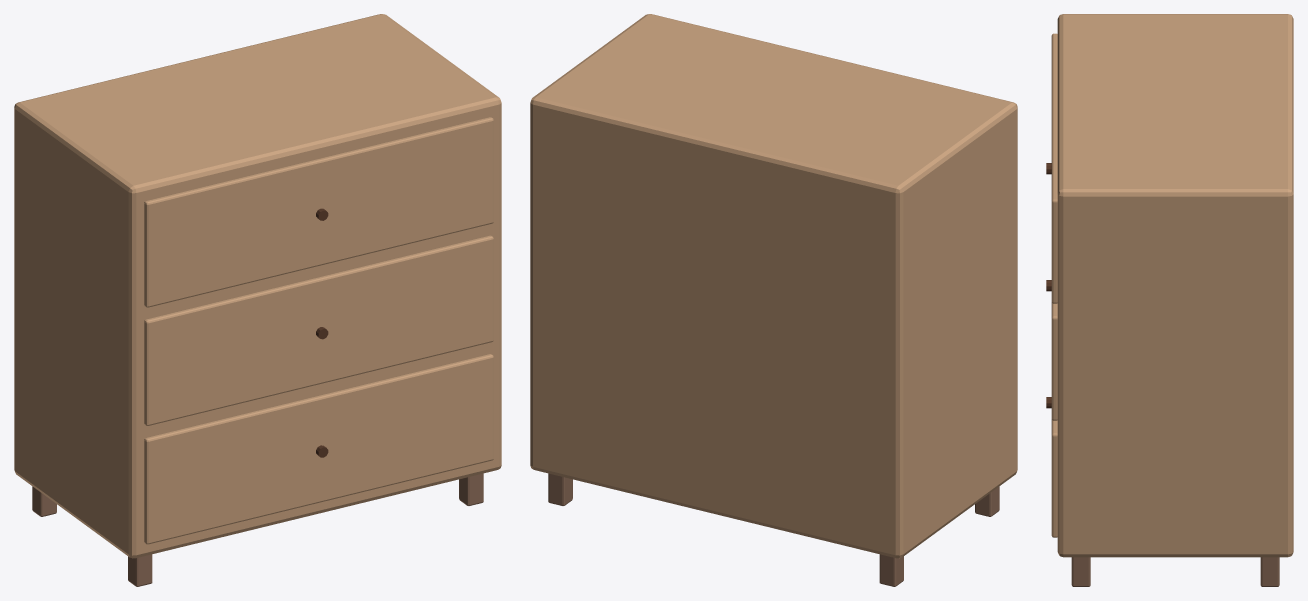
File: hh_chest_drawers.glb
The picture shows the model from 3 angles, left to right: view 1: azimuth 30°, elevation 25°; view 2: azimuth 150°, elevation 25°; view 3: azimuth 270°, elevation 25°; orthographic projection.
Visible parts, largest first — view 1: body, drawer, drawer.001, drawer.002, leg, leg.002; view 2: body, leg.001, leg.003; view 3: body, drawer.002, drawer, drawer.001, leg.003, leg.002.
Part boxes in pixels (bbox=[...]): body: bbox=[14, 14, 501, 558]; drawer: bbox=[144, 354, 493, 544]; drawer.001: bbox=[144, 235, 493, 425]; drawer.002: bbox=[144, 117, 493, 307]; leg: bbox=[128, 554, 152, 586]; leg.002: bbox=[459, 473, 483, 505]; body: bbox=[530, 14, 1017, 558]; leg.001: bbox=[879, 554, 903, 586]; leg.003: bbox=[548, 473, 572, 505]; body: bbox=[1057, 14, 1293, 557]; drawer.002: bbox=[1051, 33, 1057, 303]; drawer: bbox=[1051, 419, 1057, 537]; drawer.001: bbox=[1051, 302, 1057, 420]; leg.003: bbox=[1260, 557, 1279, 586]; leg.002: bbox=[1071, 557, 1090, 586].
Bounding box in the file's own units: 0.9 × 0.94 × 0.524.
